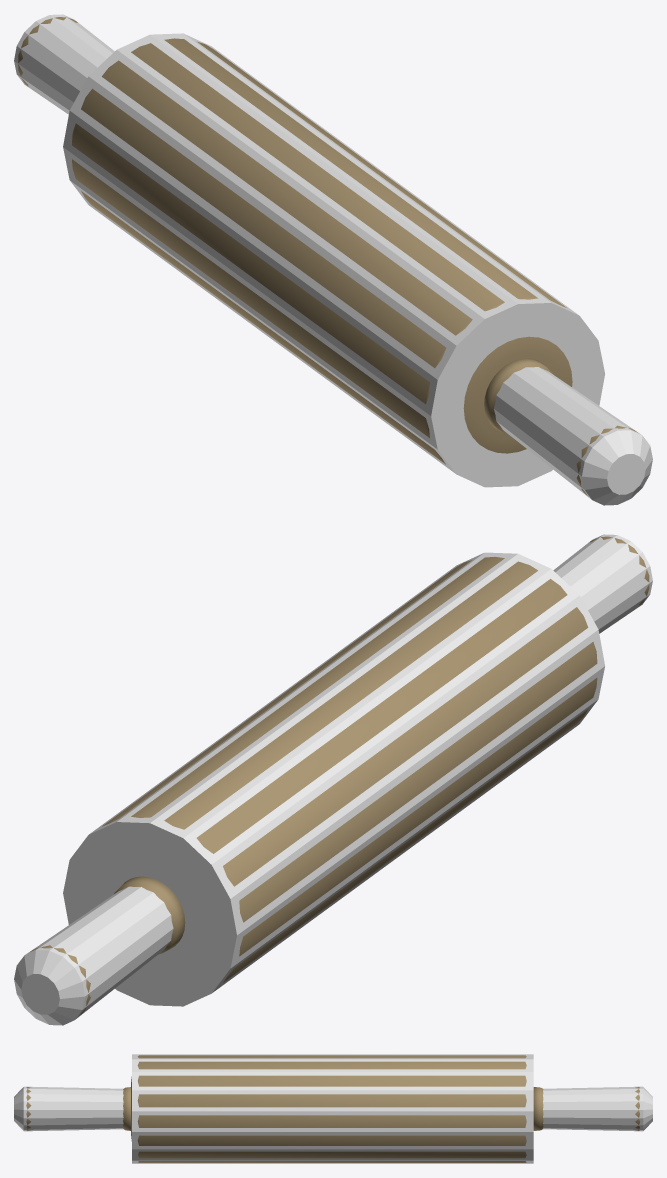
File: Baked Roll.fbx
3 renders of one model, top to bottom at view 1: azimuth 30°, elevation 25°; view 2: azimuth 150°, elevation 25°; view 3: azimuth 270°, elevation 25°, orthographic. The views are drawn at different scales.
Parts seen in each view (by area): view 1: Baked Roll, BRcoll 2, BRcoll 1, BRcoll 3; view 2: Baked Roll, BRcoll 2, BRcoll 3, BRcoll 1; view 3: Baked Roll, BRcoll 2, BRcoll 3, BRcoll 1.
Part boxes in pixels (left/top/right/bottom): Baked Roll: left=18, top=17, right=637, bottom=495; BRcoll 2: left=63, top=33, right=604, bottom=487; BRcoll 1: left=494, top=367, right=652, bottom=505; BRcoll 3: left=14, top=14, right=114, bottom=114; Baked Roll: left=30, top=536, right=649, bottom=1016; BRcoll 2: left=63, top=552, right=604, bottom=1006; BRcoll 3: left=14, top=886, right=173, bottom=1025; BRcoll 1: left=553, top=534, right=652, bottom=633; Baked Roll: left=26, top=1055, right=639, bottom=1162; BRcoll 2: left=132, top=1054, right=533, bottom=1163; BRcoll 3: left=543, top=1086, right=652, bottom=1131; BRcoll 1: left=14, top=1086, right=123, bottom=1131.
Size of the model in its own units: 103 by 103 by 602.
